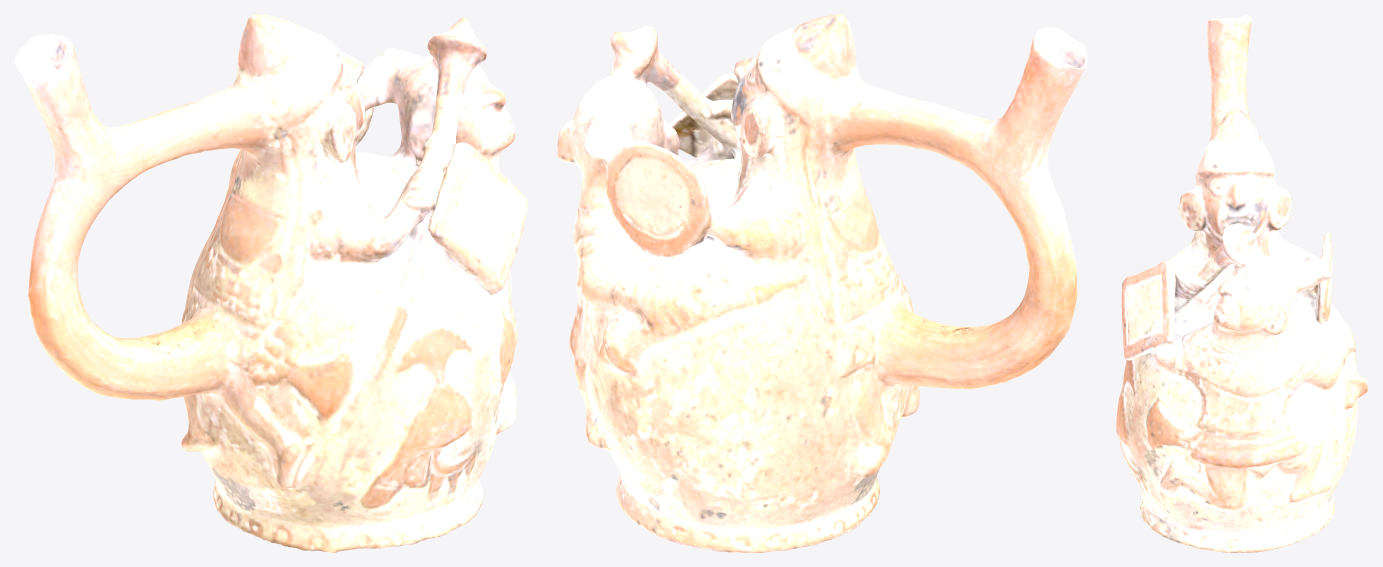
File: botella_mochica.glb
The picture shows the model from 3 angles, left to right: view 1: azimuth 30°, elevation 25°; view 2: azimuth 150°, elevation 25°; view 3: azimuth 270°, elevation 25°; orthographic projection. The views are drawn at different scales.
Parts seen in each view (by area): view 1: Object_2, Object_3; view 2: Object_2, Object_3; view 3: Object_3, Object_2.
Part boxes in pixels (bbox=[...]): Object_2: bbox=[22, 15, 524, 552]; Object_3: bbox=[14, 14, 528, 541]; Object_2: bbox=[571, 14, 1081, 552]; Object_3: bbox=[557, 15, 1087, 552]; Object_3: bbox=[1121, 15, 1351, 552]; Object_2: bbox=[1116, 109, 1368, 552].
Size of the model in its own units: 4.16 by 4.35 by 2.53.
